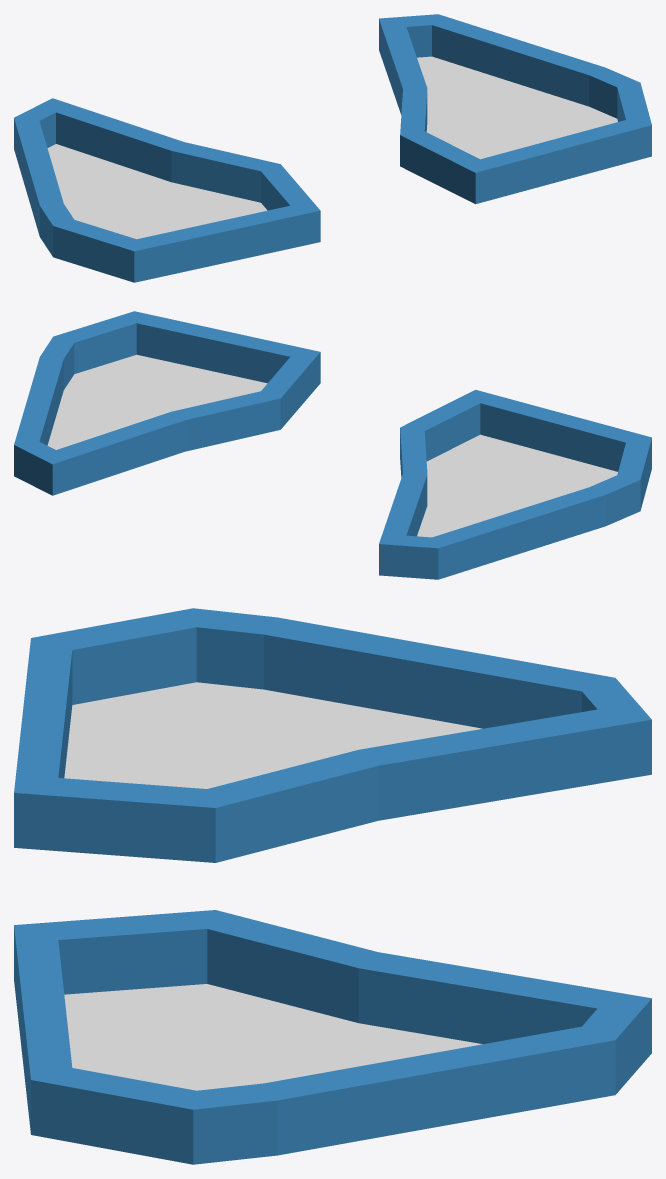
The model's file is stations_station_lungs.fbx.
3 views of the same model, one above another, from view 1: azimuth 30°, elevation 25°; view 2: azimuth 150°, elevation 25°; view 3: azimuth 270°, elevation 25° (orthographic). The views are drawn at different scales.
Parts seen in each view (by area): view 1: station_lungs; view 2: station_lungs; view 3: station_lungs.
Part boxes in pixels (x1=…): station_lungs: x1=14, y1=14, x2=651, y2=282; station_lungs: x1=14, y1=311, x2=651, y2=579; station_lungs: x1=14, y1=608, x2=651, y2=1164.
Bounding box in the file's own units: 1.95 × 0.0996 × 1.05.
